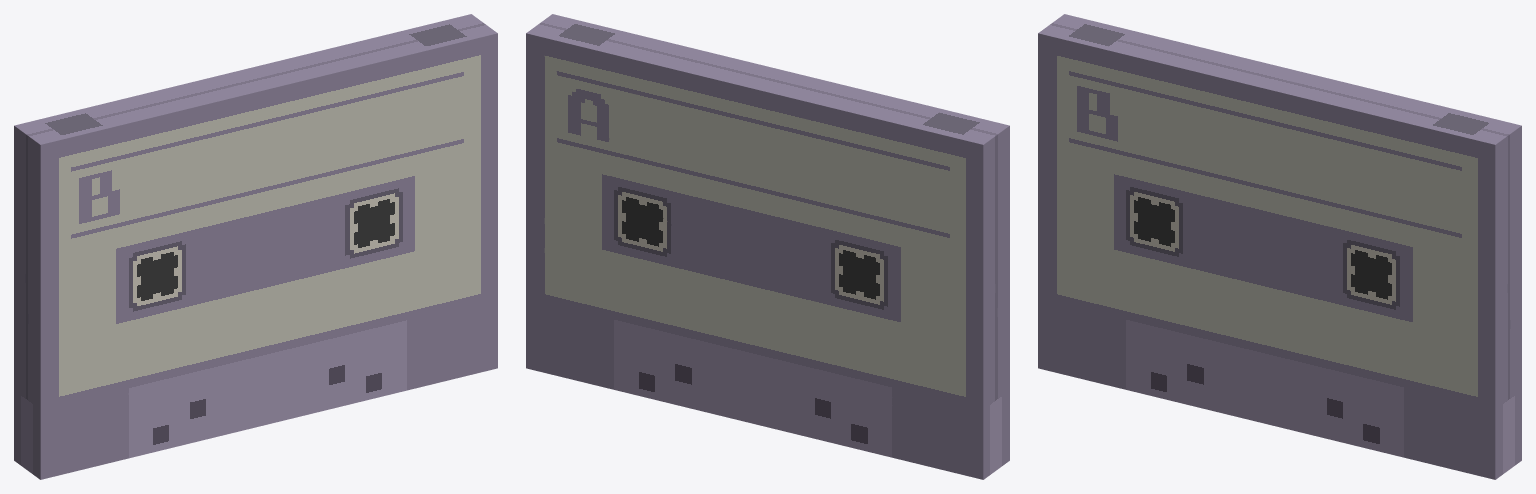
File: 0005_Cassette_Tape.glb
3 renders of one model, left to right at view 1: azimuth 30°, elevation 25°; view 2: azimuth 150°, elevation 25°; view 3: azimuth 330°, elevation 25°, orthographic.
Visible parts, largest first — view 1: part_0; view 2: part_0; view 3: part_0.
Part boxes in pixels (<box>): part_0: <box>14,14,497,479</box>; part_0: <box>526,14,1009,479</box>; part_0: <box>1038,14,1521,479</box>.
Bounding box in the file's own units: 0.1 × 0.07 × 0.01.
1 material, 1 textured.
